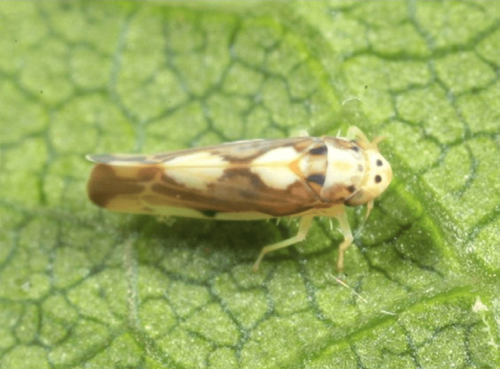Cicadellidae: (82, 129, 396, 252)
